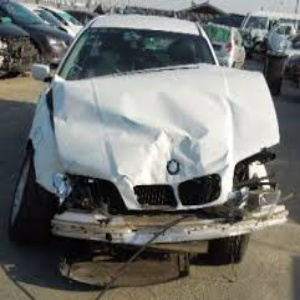bonnet: (69, 74, 278, 175)
